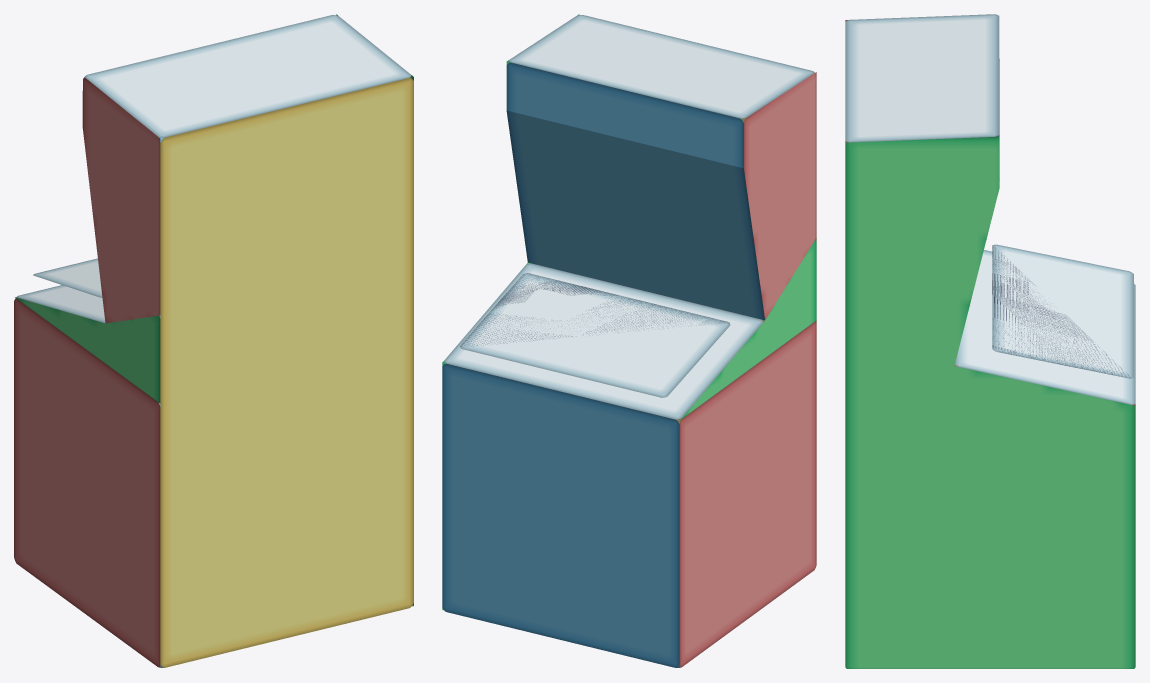
The model's file is terminal.fbx.
3 renders of one model, left to right at view 1: azimuth 30°, elevation 25°; view 2: azimuth 150°, elevation 25°; view 3: azimuth 270°, elevation 25°, orthographic. The views are drawn at different scales.
Parts seen in each view (by area): view 1: term, kbrd; view 2: term, kbrd; view 3: term, kbrd.
Part boxes in pixels (x1=…): term: x1=14, y1=14, x2=413, y2=667; kbrd: x1=33, y1=258, x2=102, y2=297; term: x1=442, y1=14, x2=816, y2=667; kbrd: x1=460, y1=273, x2=730, y2=397; term: x1=845, y1=14, x2=1135, y2=668; kbrd: x1=992, y1=244, x2=1133, y2=378.
Size of the model in its own units: 100 by 202 by 100.
Materials: 1 (1 with a texture image).
